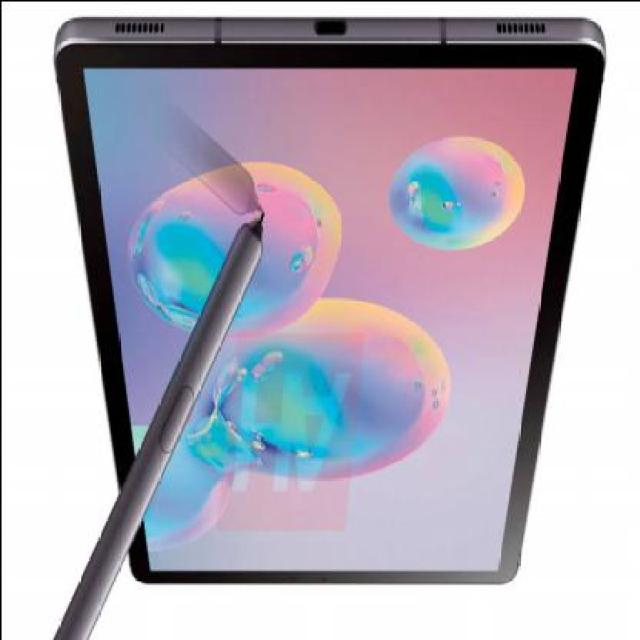tablet: (77, 13, 601, 608)
